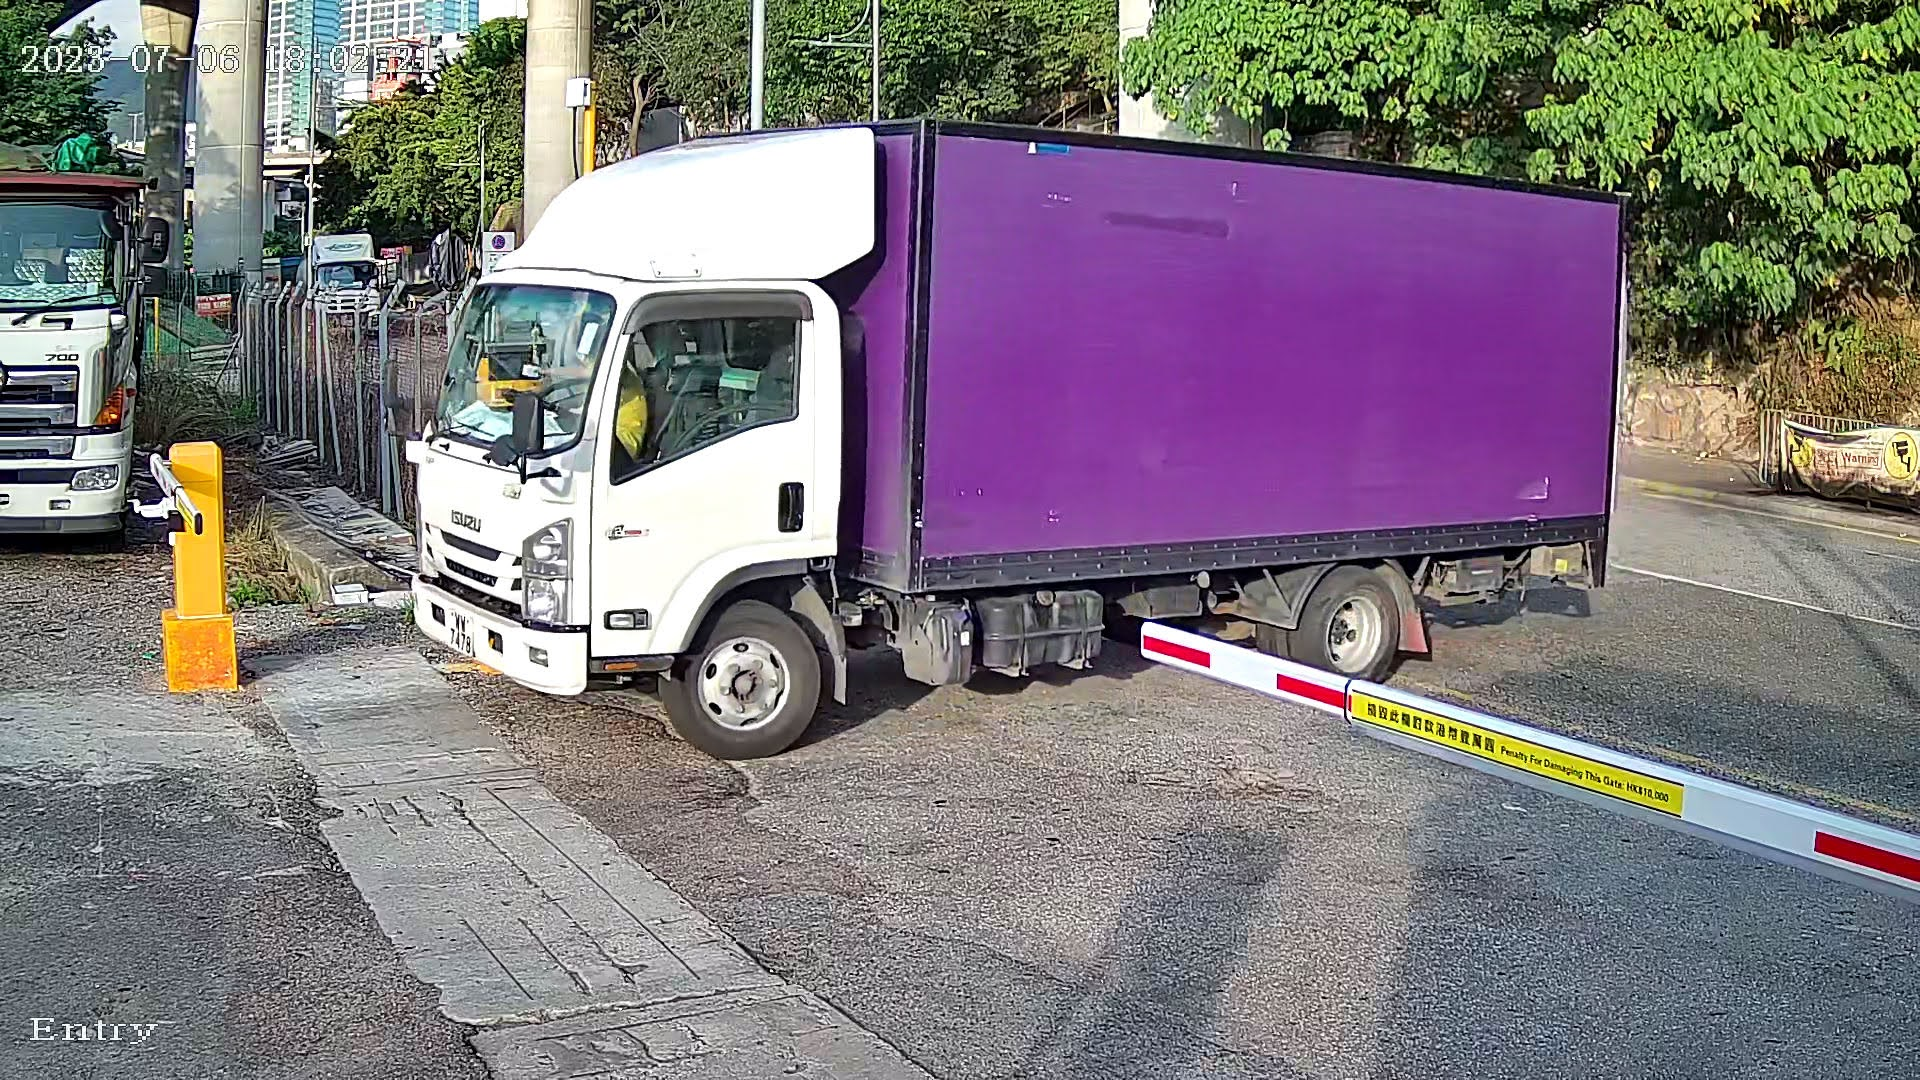truck_small: (347, 83, 1663, 807)
